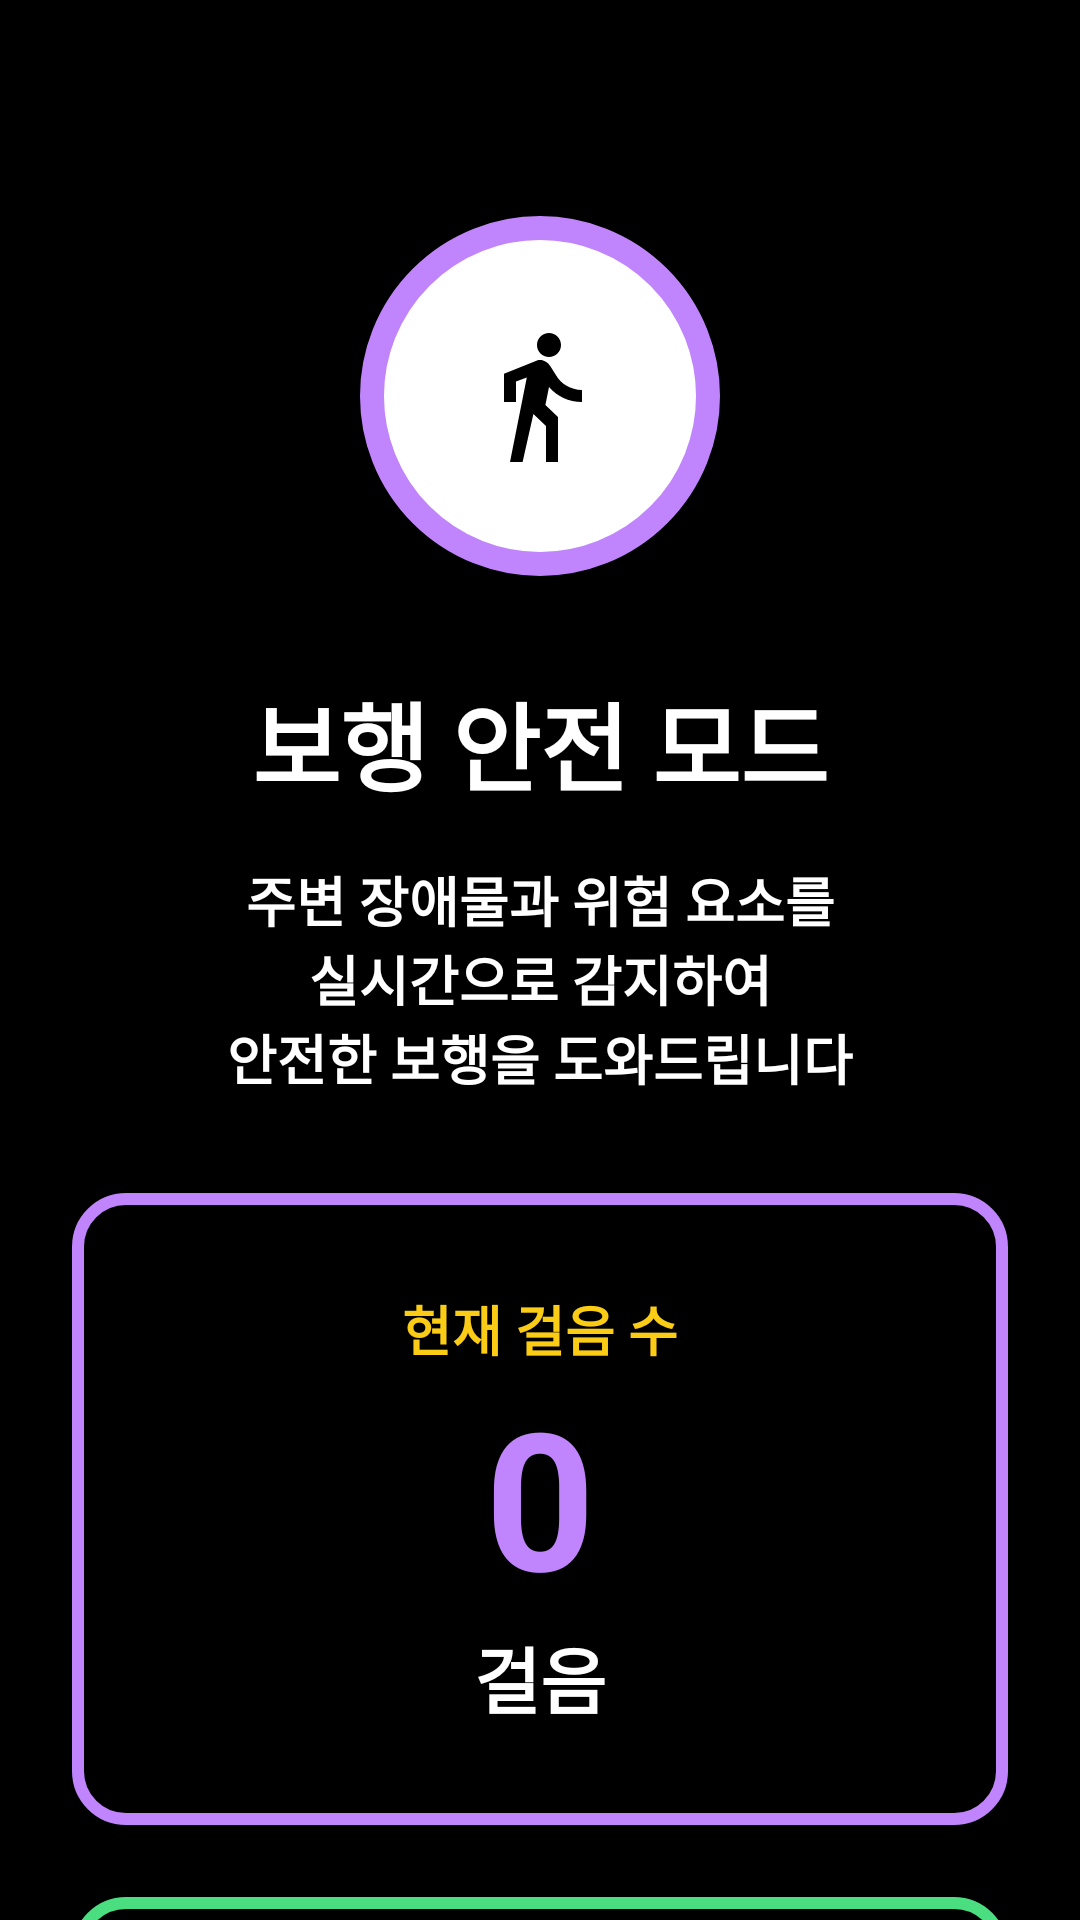

Point at icon controls on the screen. Image size 1080 × 1920, points as [x,y].
person walk: [543,397]
